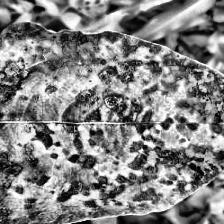ALS: (0, 22, 224, 224)
